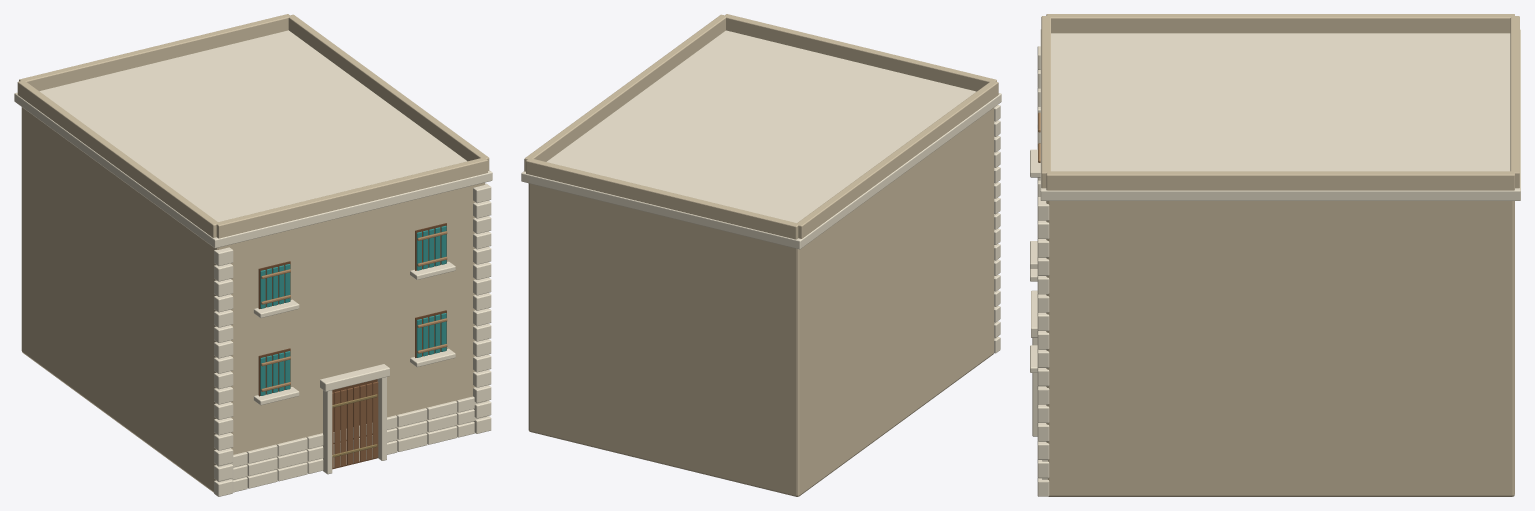
The model's file is courtyard-house.glb.
The picture shows the model from 3 angles, left to right: view 1: azimuth 30°, elevation 25°; view 2: azimuth 150°, elevation 25°; view 3: azimuth 270°, elevation 25°; orthographic projection. The views are drawn at different scales.
Parts seen in each view (by area): view 1: courtyard-house__limestone, courtyard-house__marble, courtyard-house__teal, courtyard-house__wood, courtyard-house__endgrain, courtyard-house__woodlight; view 2: courtyard-house__limestone, courtyard-house__marble; view 3: courtyard-house__limestone, courtyard-house__marble.
Boxes of the visible parts, x1=… form: courtyard-house__limestone: x1=17, y1=14, x2=489, y2=492; courtyard-house__marble: x1=14, y1=30, x2=492, y2=496; courtyard-house__teal: x1=260, y1=225, x2=446, y2=395; courtyard-house__wood: x1=332, y1=381, x2=378, y2=468; courtyard-house__endgrain: x1=258, y1=223, x2=446, y2=469; courtyard-house__woodlight: x1=261, y1=231, x2=447, y2=391; courtyard-house__limestone: x1=524, y1=14, x2=998, y2=496; courtyard-house__marble: x1=521, y1=30, x2=1001, y2=353; courtyard-house__limestone: x1=1041, y1=14, x2=1519, y2=496; courtyard-house__marble: x1=1030, y1=29, x2=1520, y2=496.
Size of the model in its own units: 7.94 by 7.43 by 10.15.
